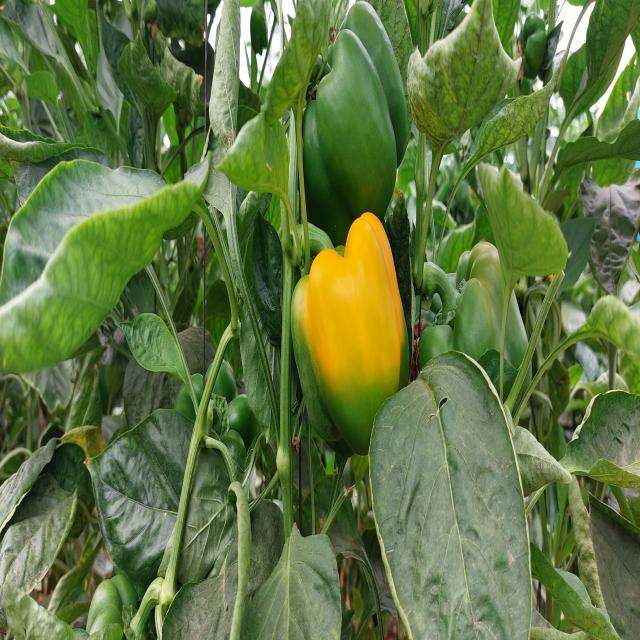Yellow-Ready-to-Harvest: (292, 208, 409, 378)
